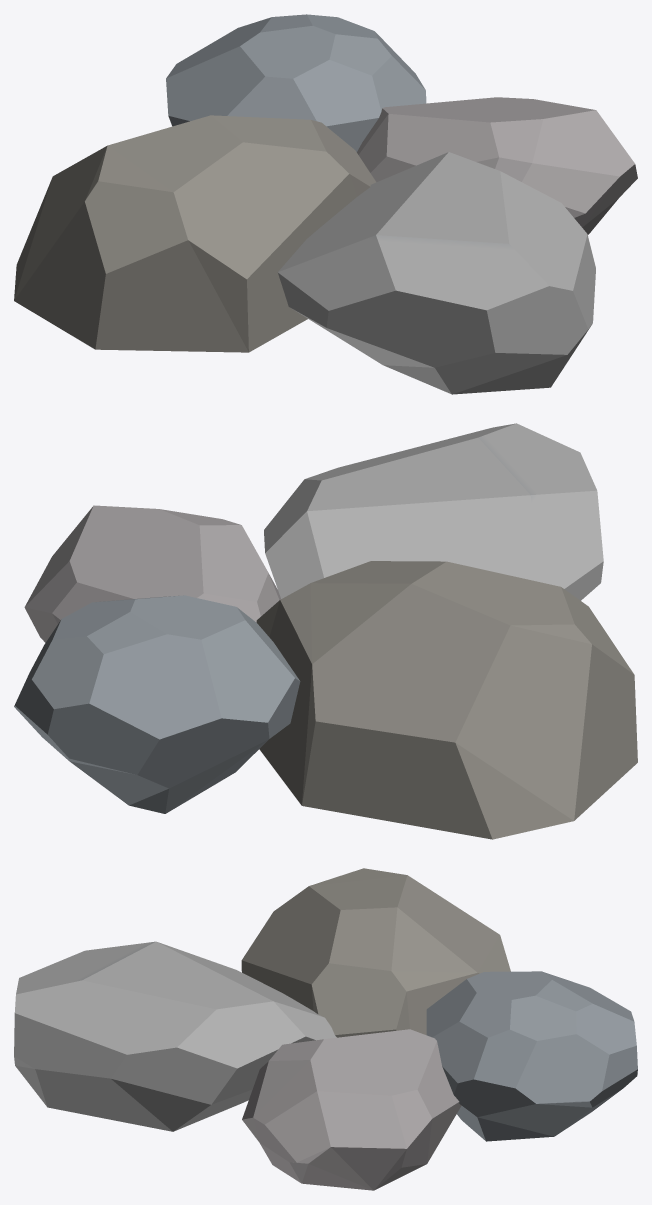
Rendered from Rocks_Round_m_04 2.fbx.
The picture shows the model from 3 angles, top to bottom: view 1: azimuth 30°, elevation 25°; view 2: azimuth 150°, elevation 25°; view 3: azimuth 270°, elevation 25°; orthographic projection. The views are drawn at different scales.
Parts seen in each view (by area): view 1: Rocks_Round_m_04; view 2: Rocks_Round_m_04; view 3: Rocks_Round_m_04.
Boxes of the visible parts, x1,y1,x2,y2 form: Rocks_Round_m_04: [14, 14, 637, 394]; Rocks_Round_m_04: [14, 423, 637, 839]; Rocks_Round_m_04: [14, 868, 637, 1190].
Bounding box in the file's own units: 222 × 63.72 × 251.
